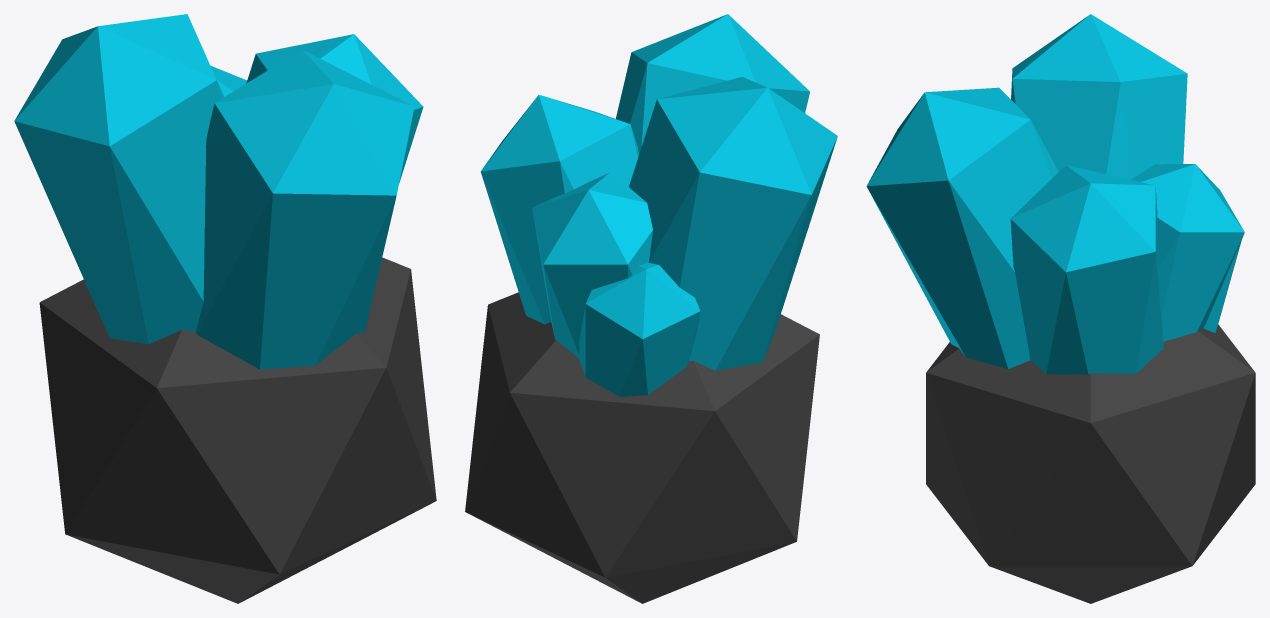
The model's file is Gemstone_1.gltf.
3 views of the same model, side by side, from view 1: azimuth 30°, elevation 25°; view 2: azimuth 150°, elevation 25°; view 3: azimuth 270°, elevation 25° (orthographic). The views are drawn at different scales.
Parts seen in each view (by area): view 1: Icosphere.004, Icosphere, Icosphere.002, Icosphere.003; view 2: Icosphere.004, Icosphere.002, Icosphere.003, Icosphere.001, Icosphere.005, Icosphere; view 3: Icosphere.004, Icosphere, Icosphere.003, Icosphere.002, Icosphere.001, Icosphere.005.
Boxes of the visible parts, box(x1,y1,x2,y2) form: Icosphere.004: box(39, 257, 436, 603); Icosphere: box(195, 49, 414, 369); Icosphere.002: box(14, 14, 223, 344); Icosphere.003: box(246, 34, 423, 183); Icosphere.004: box(465, 292, 819, 603); Icosphere.002: box(629, 77, 837, 370); Icosphere.003: box(480, 95, 638, 324); Icosphere.001: box(532, 172, 652, 357); Icosphere.005: box(579, 263, 700, 396); Icosphere: box(616, 14, 809, 154); Icosphere.004: box(926, 324, 1255, 603); Icosphere: box(866, 87, 1058, 368); Icosphere.003: box(1010, 165, 1163, 374); Icosphere.002: box(1011, 14, 1187, 179); Icosphere.001: box(1130, 164, 1244, 341); Icosphere.005: box(1203, 240, 1241, 332).
Bounding box in the file's own units: 0.8301 × 1.28 × 0.8498.
